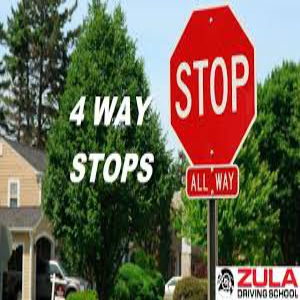STOP_SIGN: (168, 2, 257, 167)
